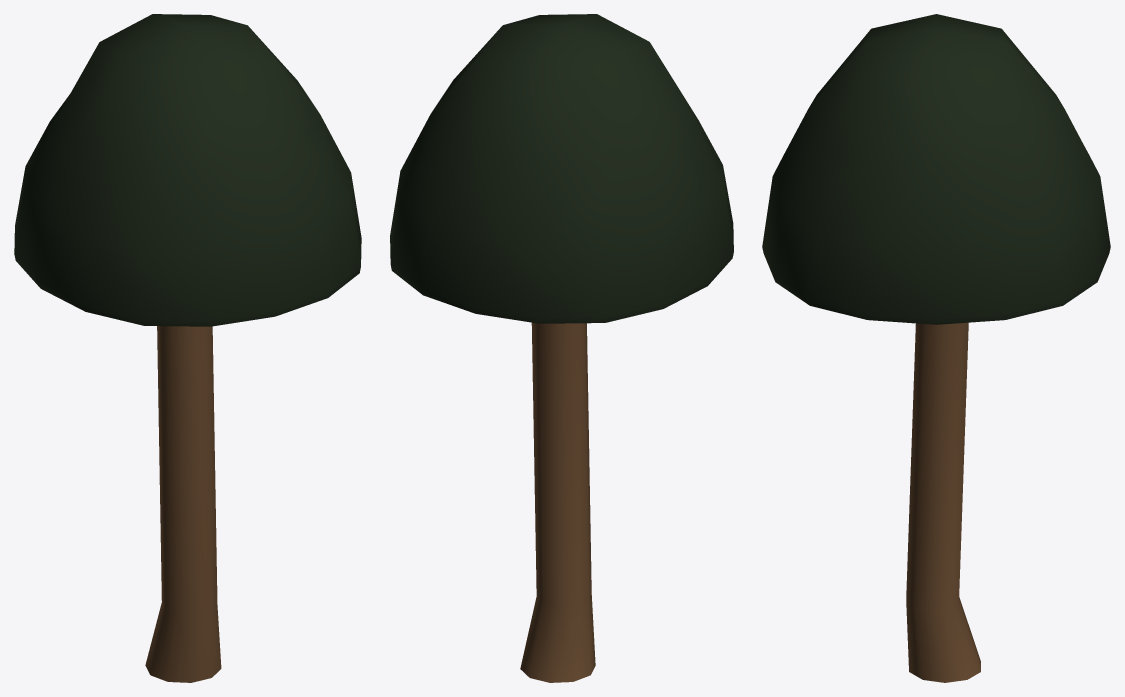
File: GreenTree.FBX
3 views of the same model, side by side, from view 1: azimuth 30°, elevation 25°; view 2: azimuth 150°, elevation 25°; view 3: azimuth 270°, elevation 25° (orthographic).
Parts seen in each view (by area): view 1: GreenTrre; view 2: GreenTrre; view 3: GreenTrre.
Part boxes in pixels (<box>): GreenTrre: <box>14,14,361,682</box>; GreenTrre: <box>390,14,733,682</box>; GreenTrre: <box>762,14,1110,682</box>.
Bounding box in the file's own units: 76.34 × 158 × 78.32.
